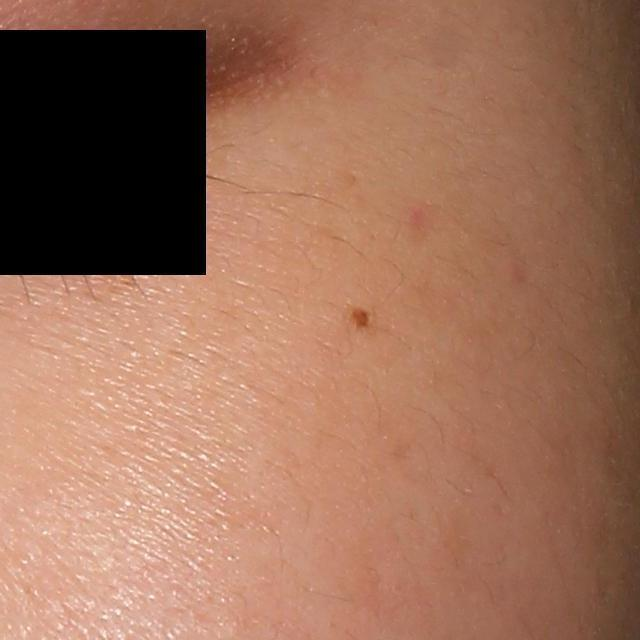nevus: (348, 304, 370, 335)
